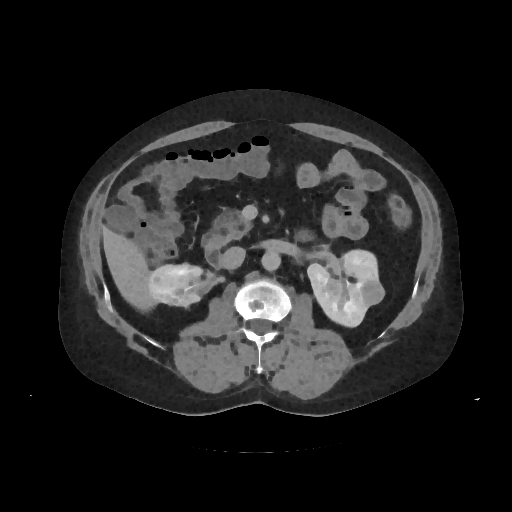Lesion: (358, 274, 388, 311)
